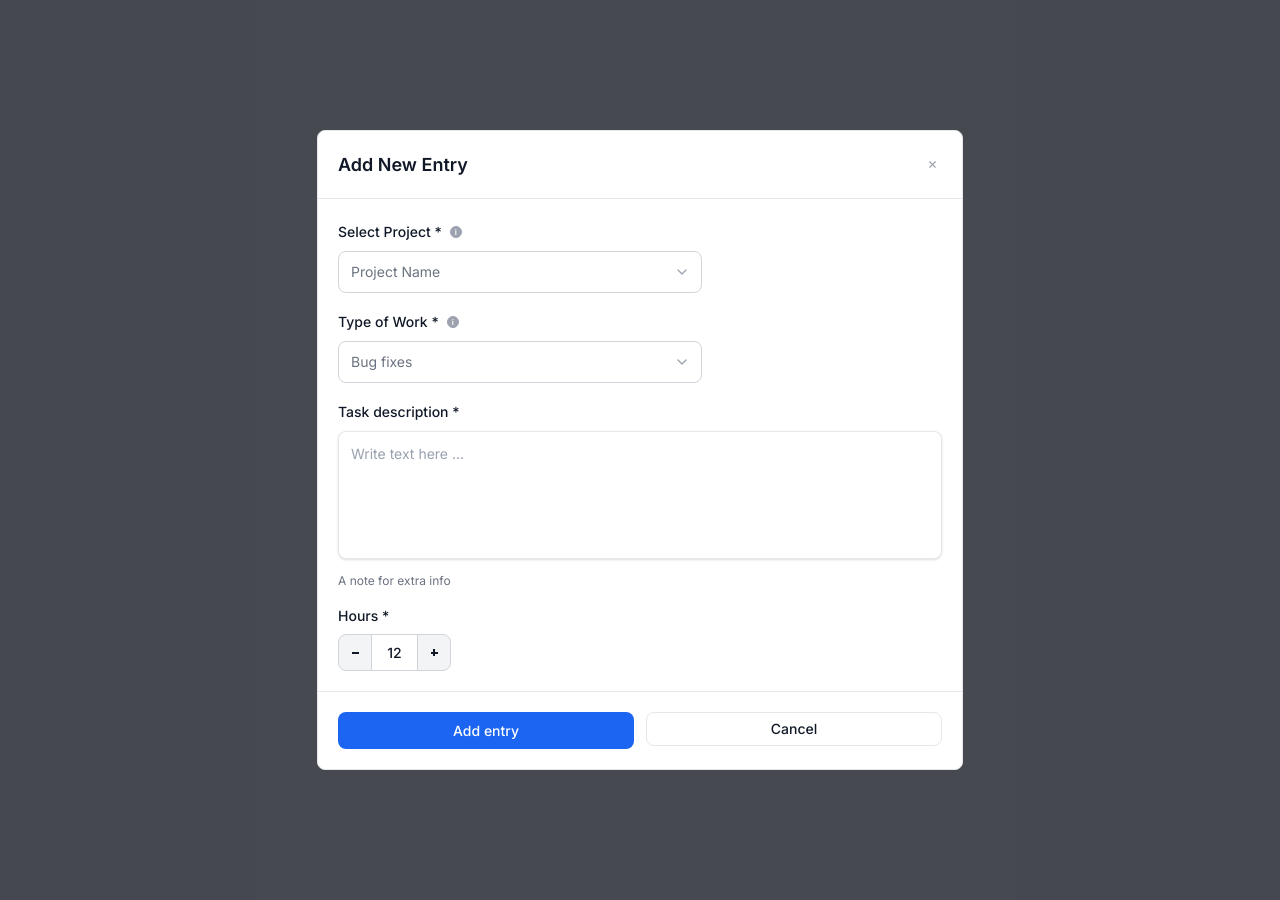
Test case: EntryModal › shows validation errors for required fields
This screenshot has width=1280, height=900.
What coordinates should you click on to do the following:
click the button "Add entry"
I would click on:
 (486, 730)
Its box is top-left (338, 712), bottom-right (634, 749).
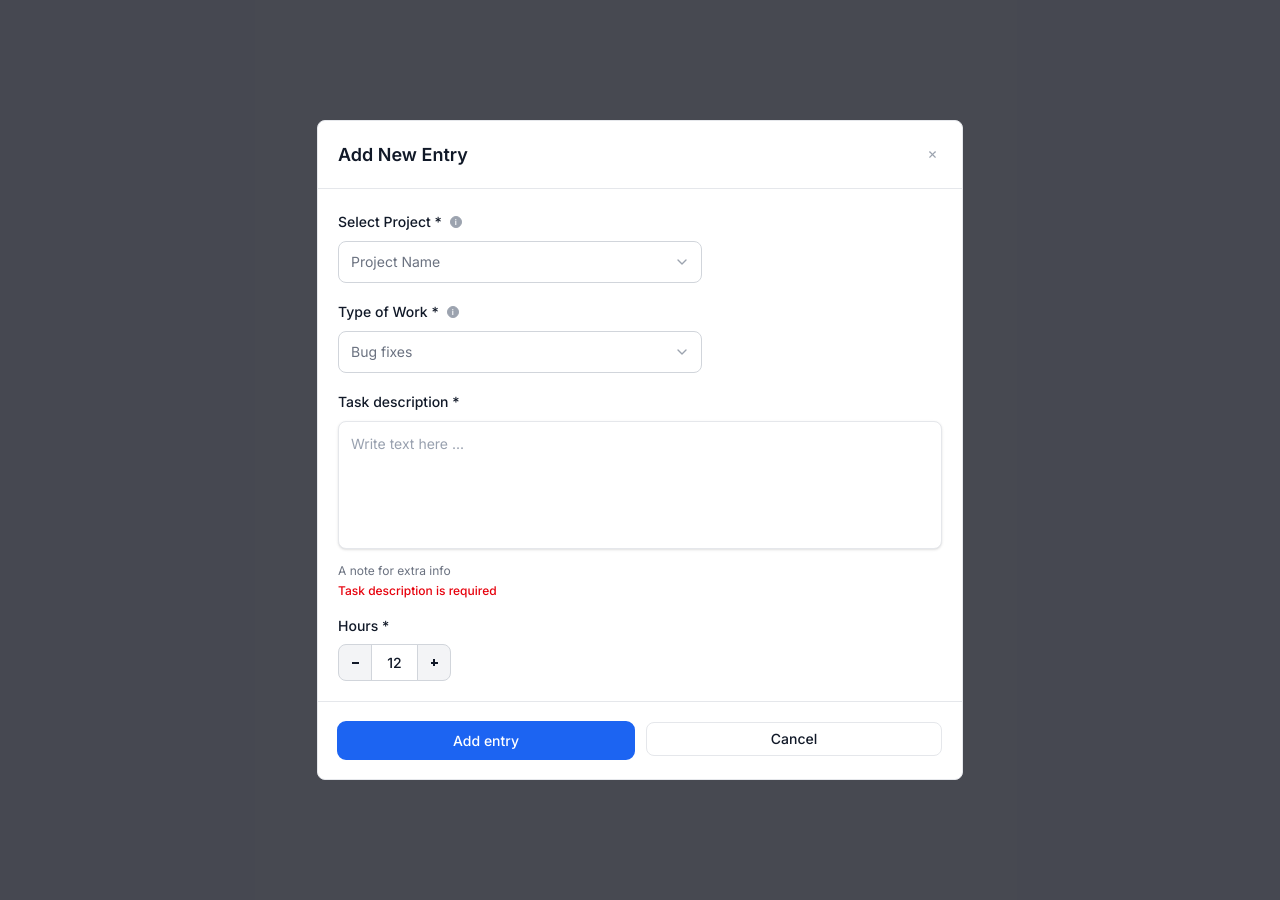
Expected: the text "Task description is required" is shown, top-left (338, 583), bottom-right (497, 598)
